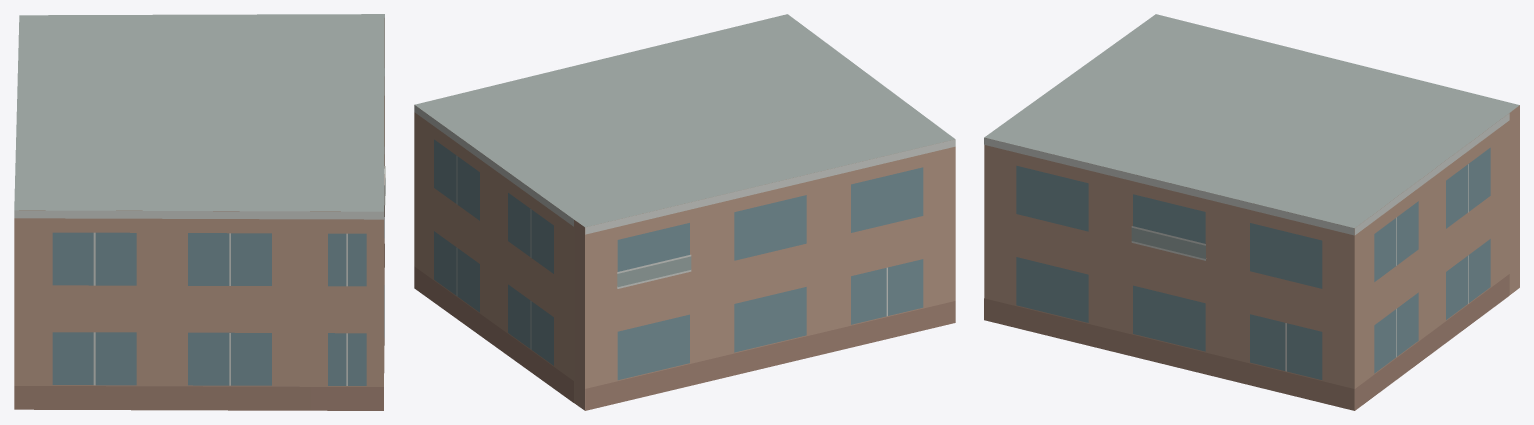
File: survey-upis-32671938.glb
3 renders of one model, left to right at view 1: azimuth 30°, elevation 25°; view 2: azimuth 150°, elevation 25°; view 3: azimuth 270°, elevation 25°, orthographic. The views are drawn at different scales.
Visible parts, largest first — view 1: survey-upis-32671938.tmp; view 2: survey-upis-32671938.tmp; view 3: survey-upis-32671938.tmp.
Part boxes in pixels (x1,y1,x2,y2): survey-upis-32671938.tmp: [14, 14, 385, 410]; survey-upis-32671938.tmp: [414, 14, 955, 410]; survey-upis-32671938.tmp: [984, 14, 1519, 410].
Bounding box in the file's own units: 15.36 × 6.1 × 16.22.
